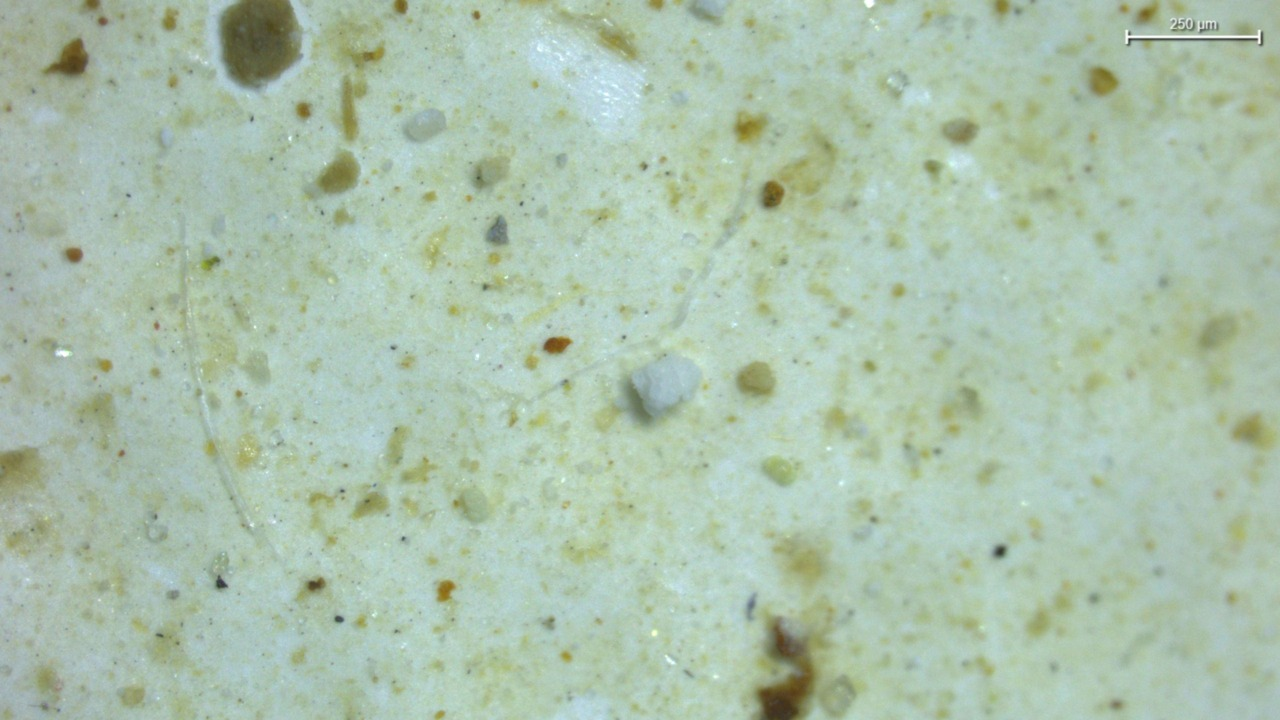microplastic_fragment: (632, 354, 701, 417), (403, 109, 446, 142), (474, 157, 509, 188)
